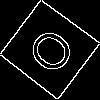O: (25, 24, 85, 84)
